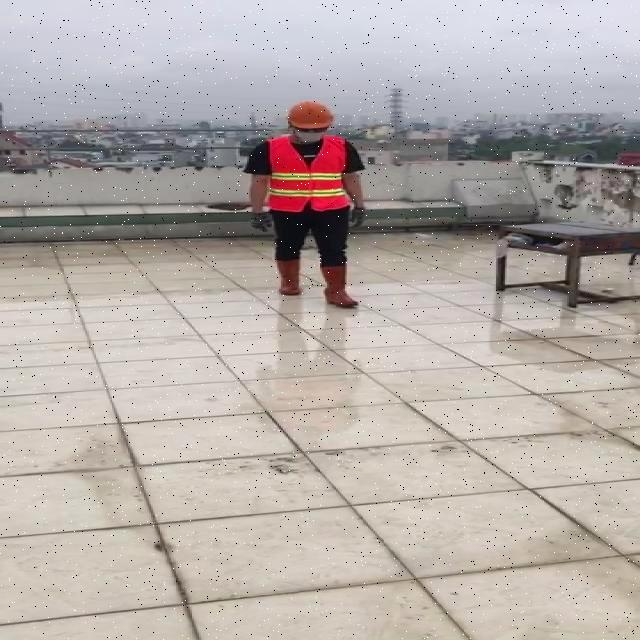Hard_hat: (284, 97, 340, 131)
Vest: (262, 132, 348, 213)
